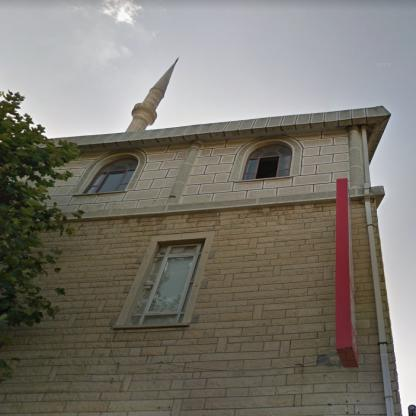window: (127, 242, 204, 324), (85, 157, 138, 192), (244, 144, 290, 180)
